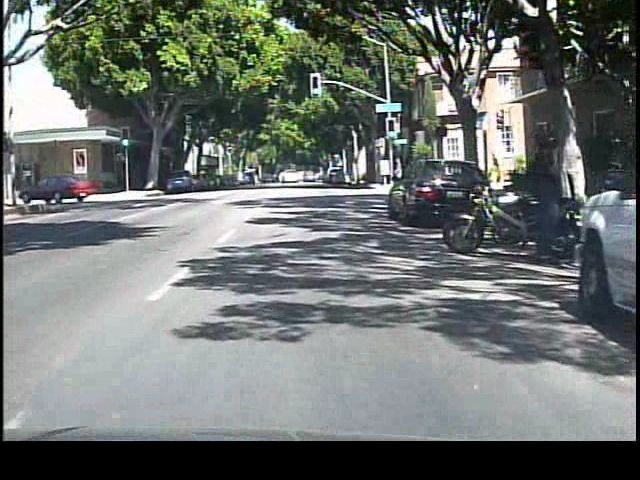person: (514, 123, 559, 270), (389, 154, 405, 191)
